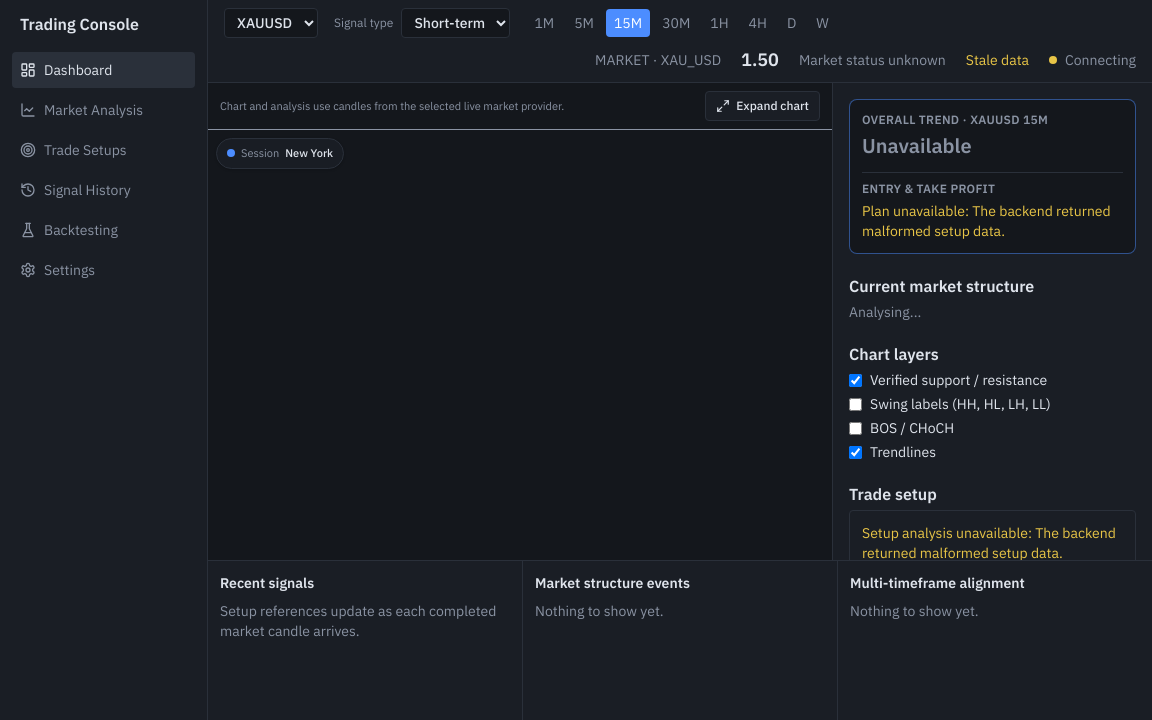
Scenario: analysis panel and annotations › clears analysis when switching instrument and ignores a late response for the old one
Select "USDJPY" in the dropdown named "Instrument": [271, 23] box [224,8,318,38]
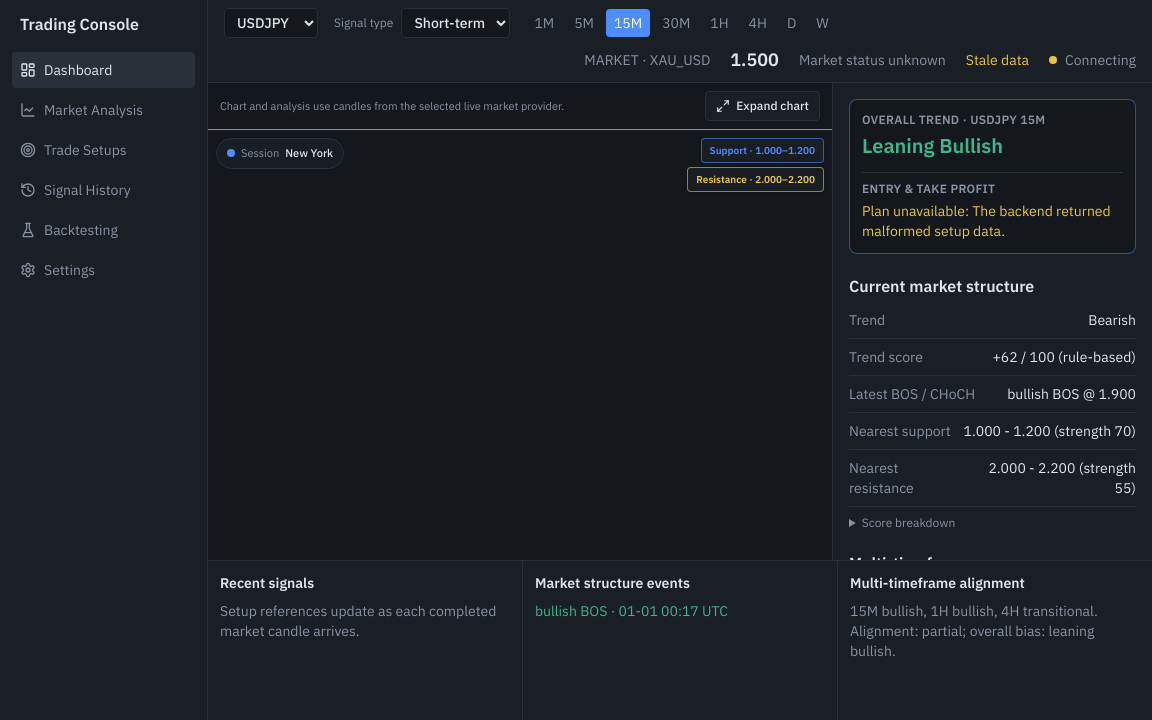
Expected: the text with test id "trend-class" reads "Bearish", [1088,311,1136,329]
